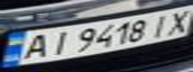1: (112, 19, 136, 46)
4: (93, 21, 118, 50)
8: (127, 16, 154, 43)
9: (72, 25, 100, 53)
A: (15, 32, 54, 61)
I: (42, 28, 75, 56), (145, 11, 175, 38)
X: (160, 7, 193, 35)
